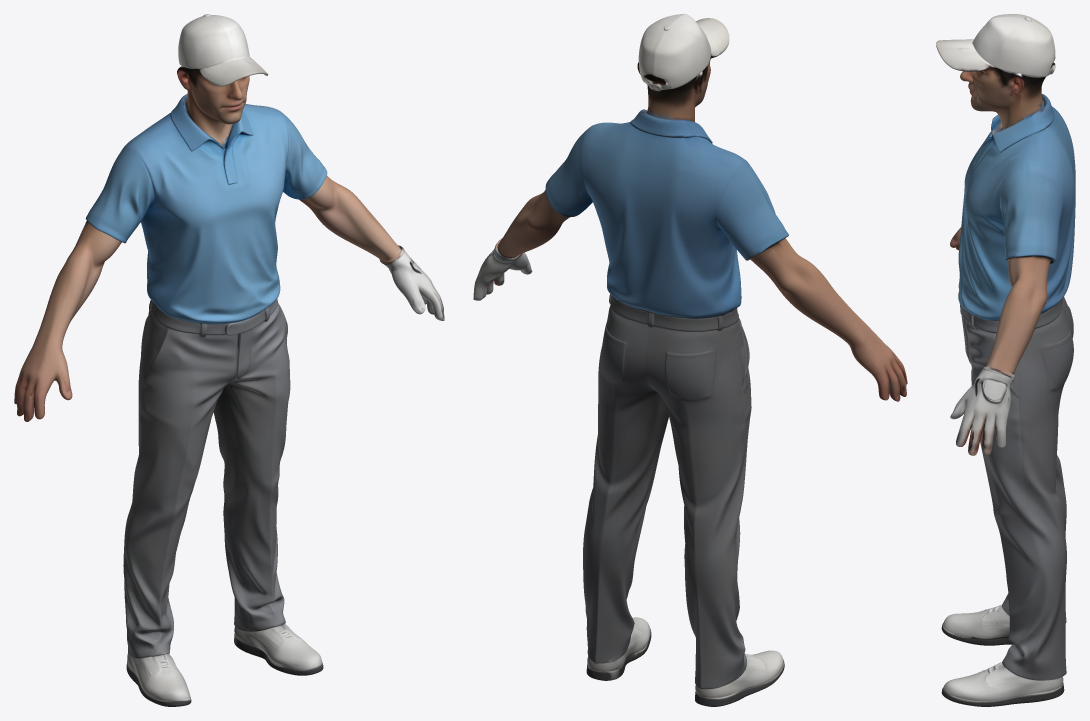
3 renders of one model, left to right at view 1: azimuth 30°, elevation 25°; view 2: azimuth 150°, elevation 25°; view 3: azimuth 270°, elevation 25°, orthographic.
Visible parts, largest first — view 1: node_0; view 2: node_0; view 3: node_0.
Boxes of the visible parts, left/top/right/bottom form: node_0: left=14, top=14, right=444, bottom=706; node_0: left=473, top=14, right=907, bottom=706; node_0: left=936, top=14, right=1075, bottom=706.
Bounding box in the file's own units: 25621 × 38060 × 7387.
Materials: 1 (1 with a texture image).
